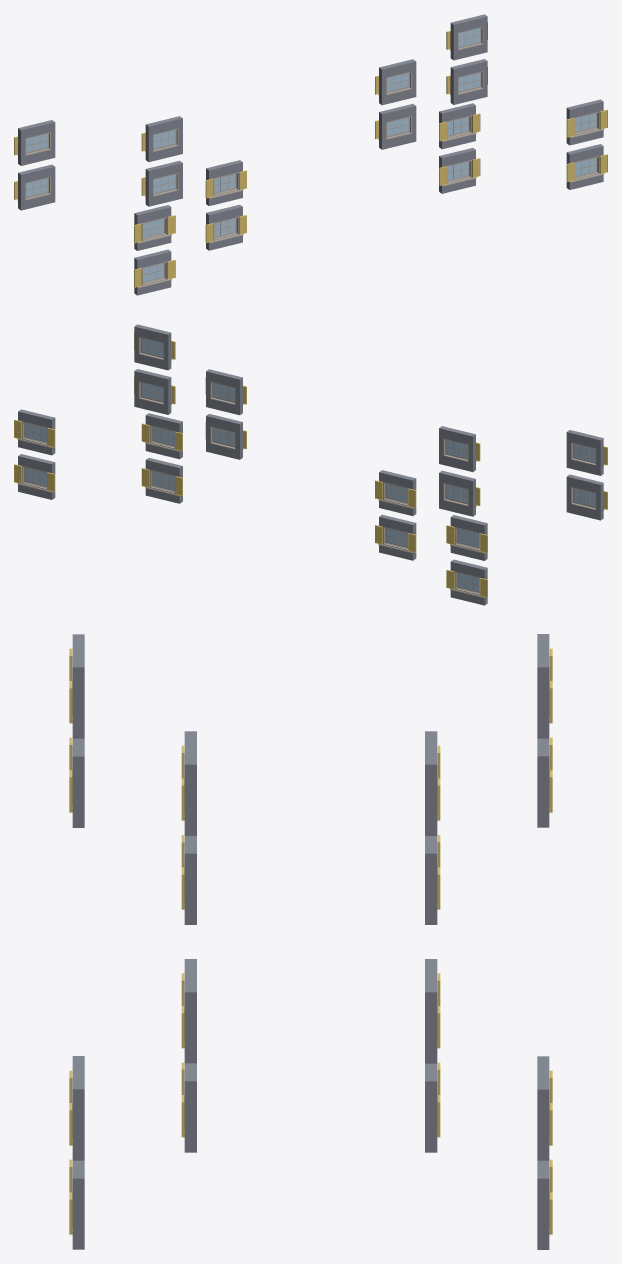
File: SM_TripleWindowWall3.glb
The picture shows the model from 3 angles, top to bottom: view 1: azimuth 30°, elevation 25°; view 2: azimuth 150°, elevation 25°; view 3: azimuth 270°, elevation 25°; orthographic projection. The views are drawn at different scales.
Visible parts, largest first — view 1: Triple Shutters.001; view 2: Triple Shutters.001; view 3: Triple Shutters.001.
Boxes of the visible parts, box(x1,y1,x2,y2) form: Triple Shutters.001: box(14, 14, 607, 295); Triple Shutters.001: box(14, 324, 607, 605); Triple Shutters.001: box(69, 634, 552, 1249).
Size of the model in its own units: 55.57 by 9 by 24.57.
